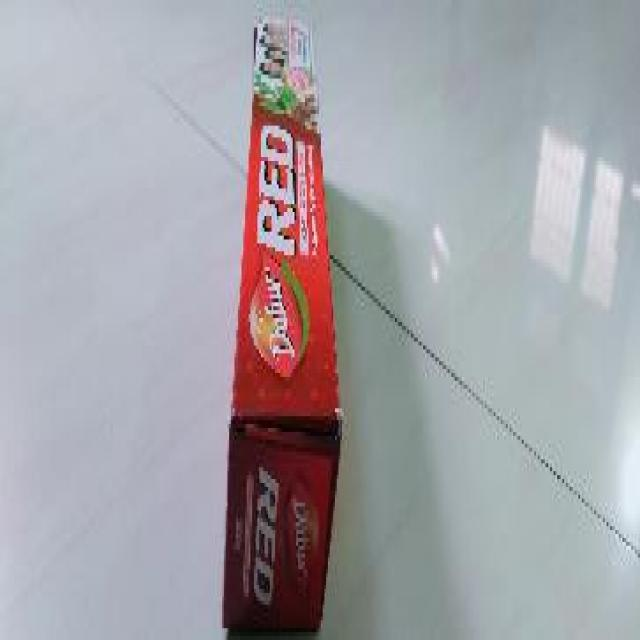tooth paste: (215, 17, 342, 632)
